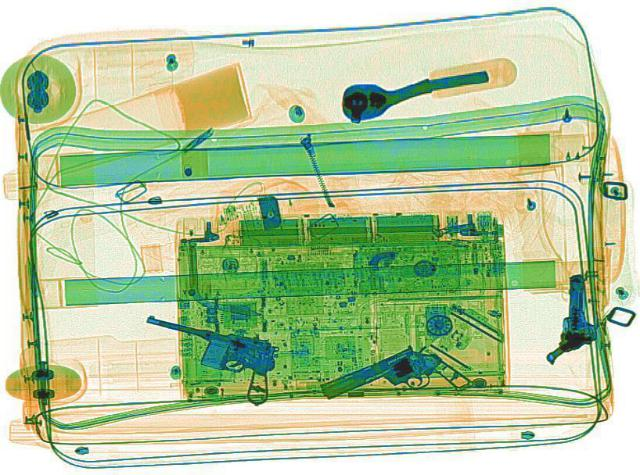Gun: (114, 306, 298, 406), (314, 335, 474, 434), (544, 273, 596, 362)
